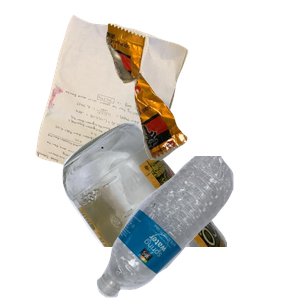glass: (60, 120, 300, 300)
paper: (33, 12, 214, 192)
plastic: (94, 156, 300, 300)
trash: (103, 21, 300, 174)
